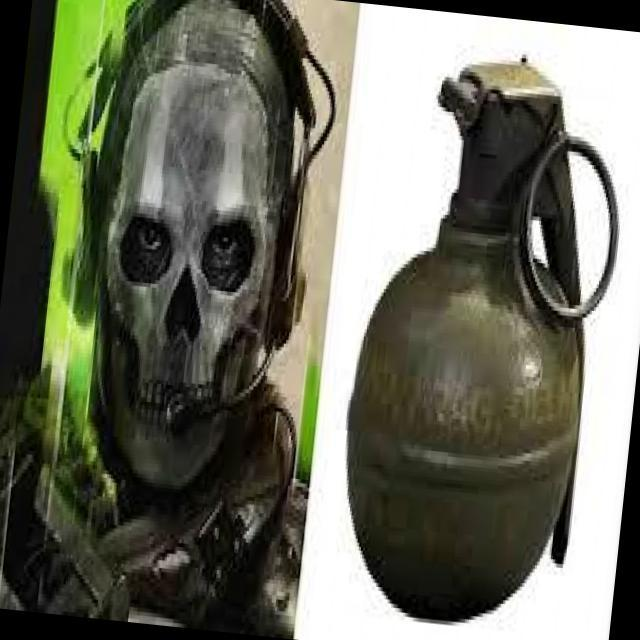grenade: (324, 63, 640, 640)
